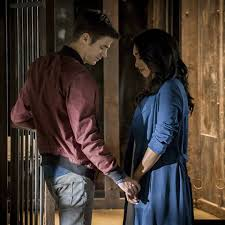Bad: (11, 10, 195, 224)
